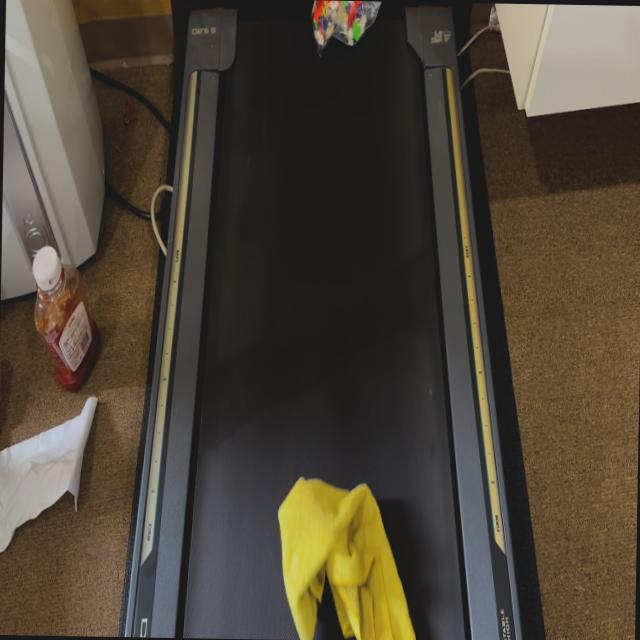Trash: (261, 459, 428, 640), (302, 0, 384, 48)
